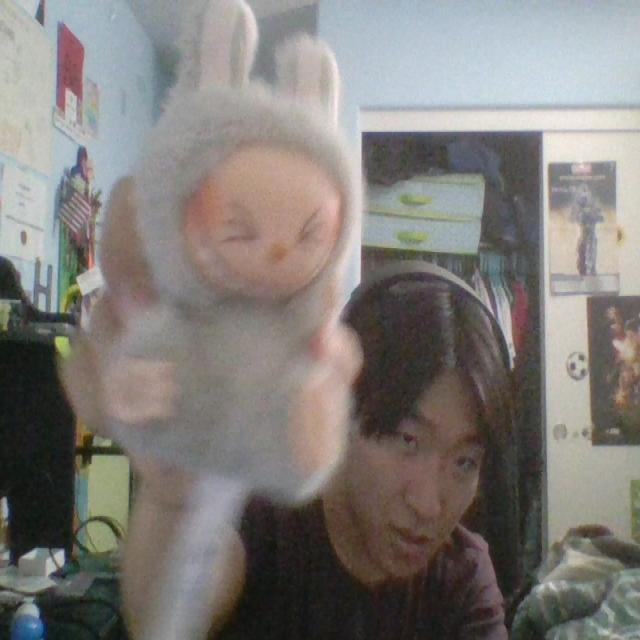labubu: (112, 0, 362, 501)
